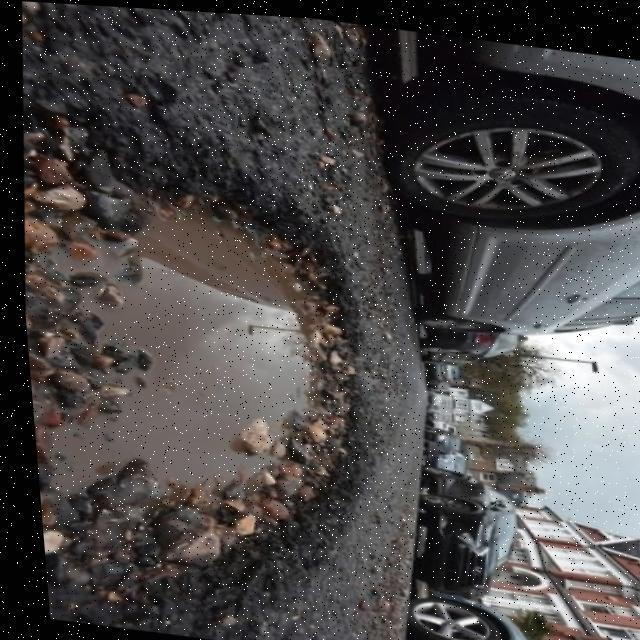pothole: (8, 139, 404, 634)
